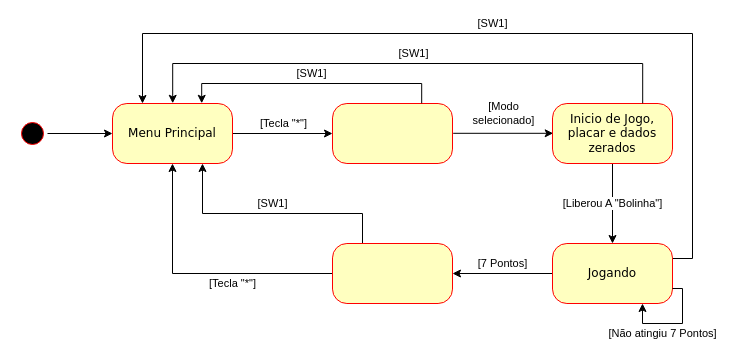
The diagram is 734 pixels wide and 357 high, and some of its shapes have lost their labels. Each missing label, with the centre of its shape:
"Fim de Jogo Exibe Vencedor" goes at (x=392, y=273).
"Seleção de Modo de Jogo" goes at (x=392, y=133).
